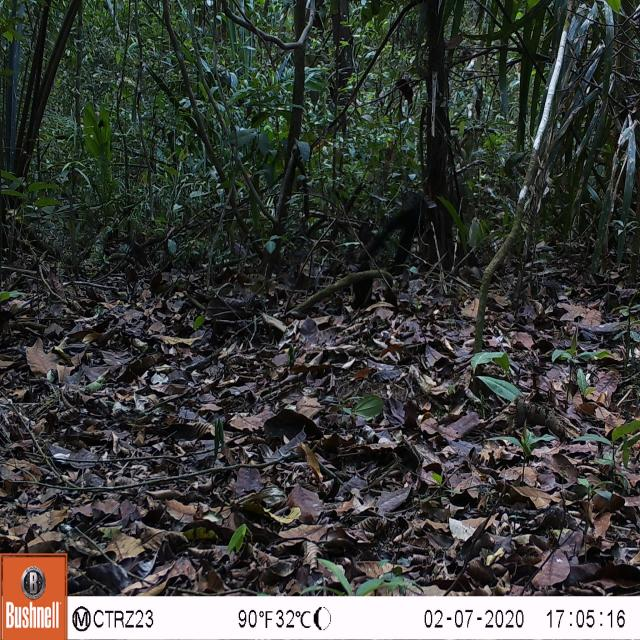Tayra: (358, 163, 476, 277)
